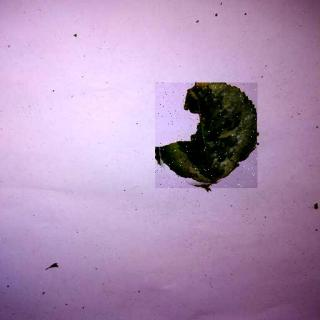Anthracnose: (157, 84, 260, 189)
